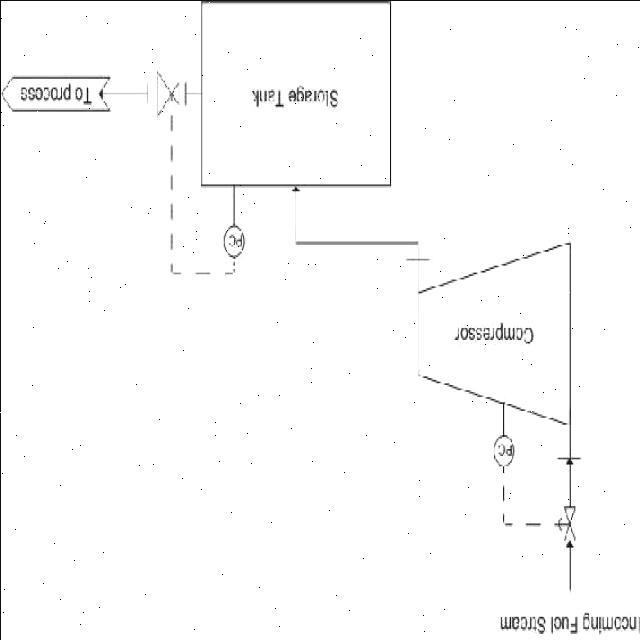Globe Valve: (562, 495, 577, 545)
